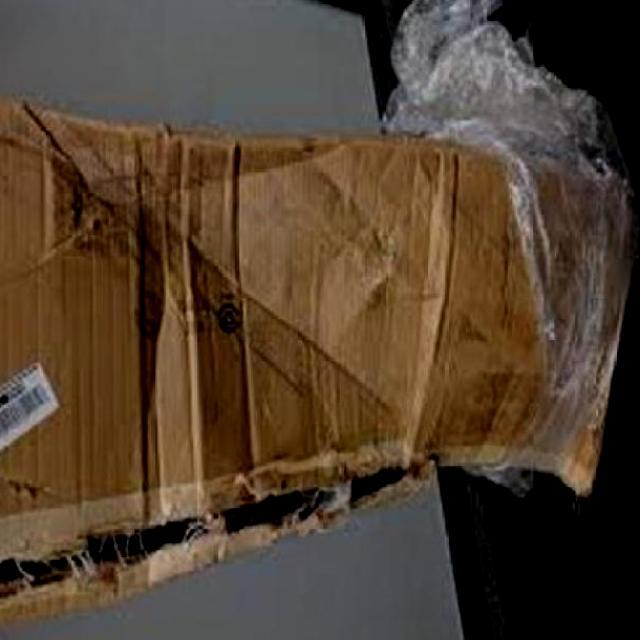box: (50, 68, 591, 596)
